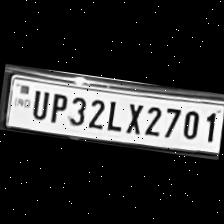0: (178, 106, 202, 140)
1: (199, 108, 221, 144)
2: (82, 94, 106, 131), (140, 102, 164, 138)
3: (64, 91, 88, 127)
7: (159, 104, 180, 138)
L: (102, 96, 126, 132)
P: (46, 88, 69, 124)
U: (28, 86, 50, 121)
X: (120, 99, 145, 135)
